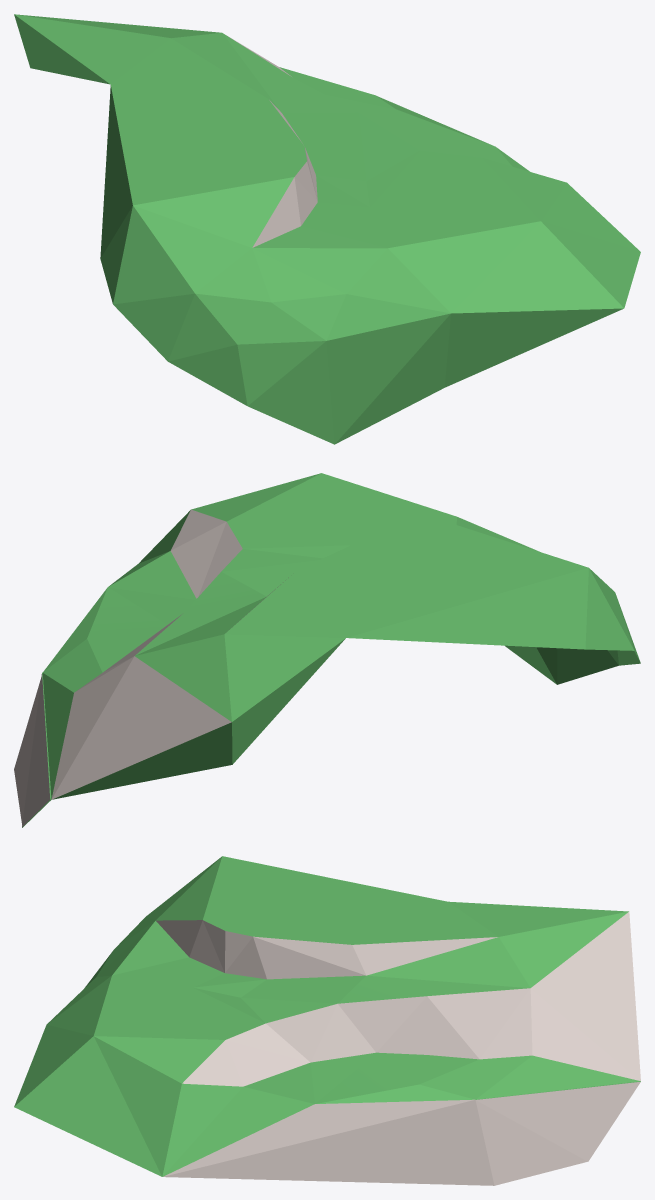
The model's file is ground.066.fbx.
The picture shows the model from 3 angles, top to bottom: view 1: azimuth 30°, elevation 25°; view 2: azimuth 150°, elevation 25°; view 3: azimuth 270°, elevation 25°; orthographic projection. The views are drawn at different scales.
Parts seen in each view (by area): view 1: ground_066; view 2: ground_066; view 3: ground_066.
Part boxes in pixels (x1,y1,x2,y2): ground_066: (14, 14, 640, 444); ground_066: (14, 473, 640, 827); ground_066: (14, 856, 640, 1185).
Bounding box in the file's own units: 6945 × 2733 × 8549.
